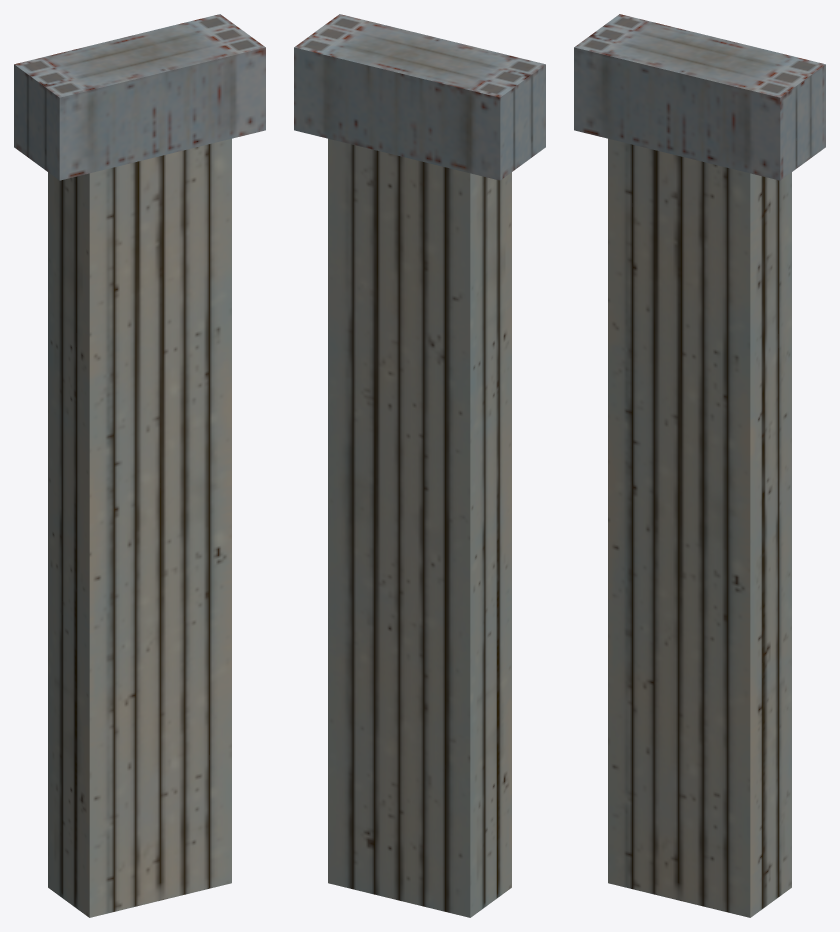
The model's file is Cable_03a_snaps019.fbx.
3 renders of one model, left to right at view 1: azimuth 30°, elevation 25°; view 2: azimuth 150°, elevation 25°; view 3: azimuth 330°, elevation 25°, orthographic.
Parts seen in each view (by area): view 1: Cable_03a_snaps019_LOD0; view 2: Cable_03a_snaps019_LOD0; view 3: Cable_03a_snaps019_LOD0.
Part boxes in pixels (x1,y1,x2,y2): Cable_03a_snaps019_LOD0: (14, 14, 265, 917); Cable_03a_snaps019_LOD0: (294, 14, 545, 917); Cable_03a_snaps019_LOD0: (574, 14, 825, 917).
Size of what is drawn, in the model's own units: 13.01 by 50 by 4.99.
